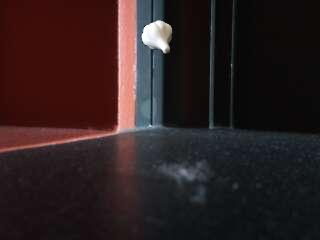Garlic: (140, 19, 173, 54)
